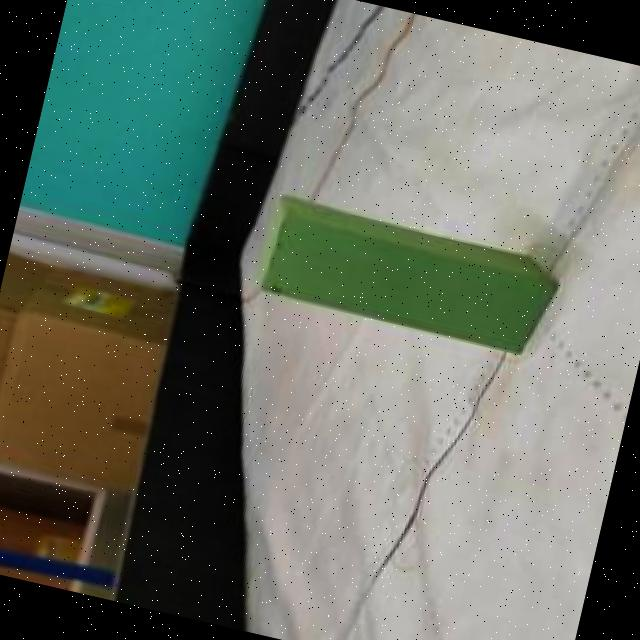greenbox: (246, 188, 567, 362)
